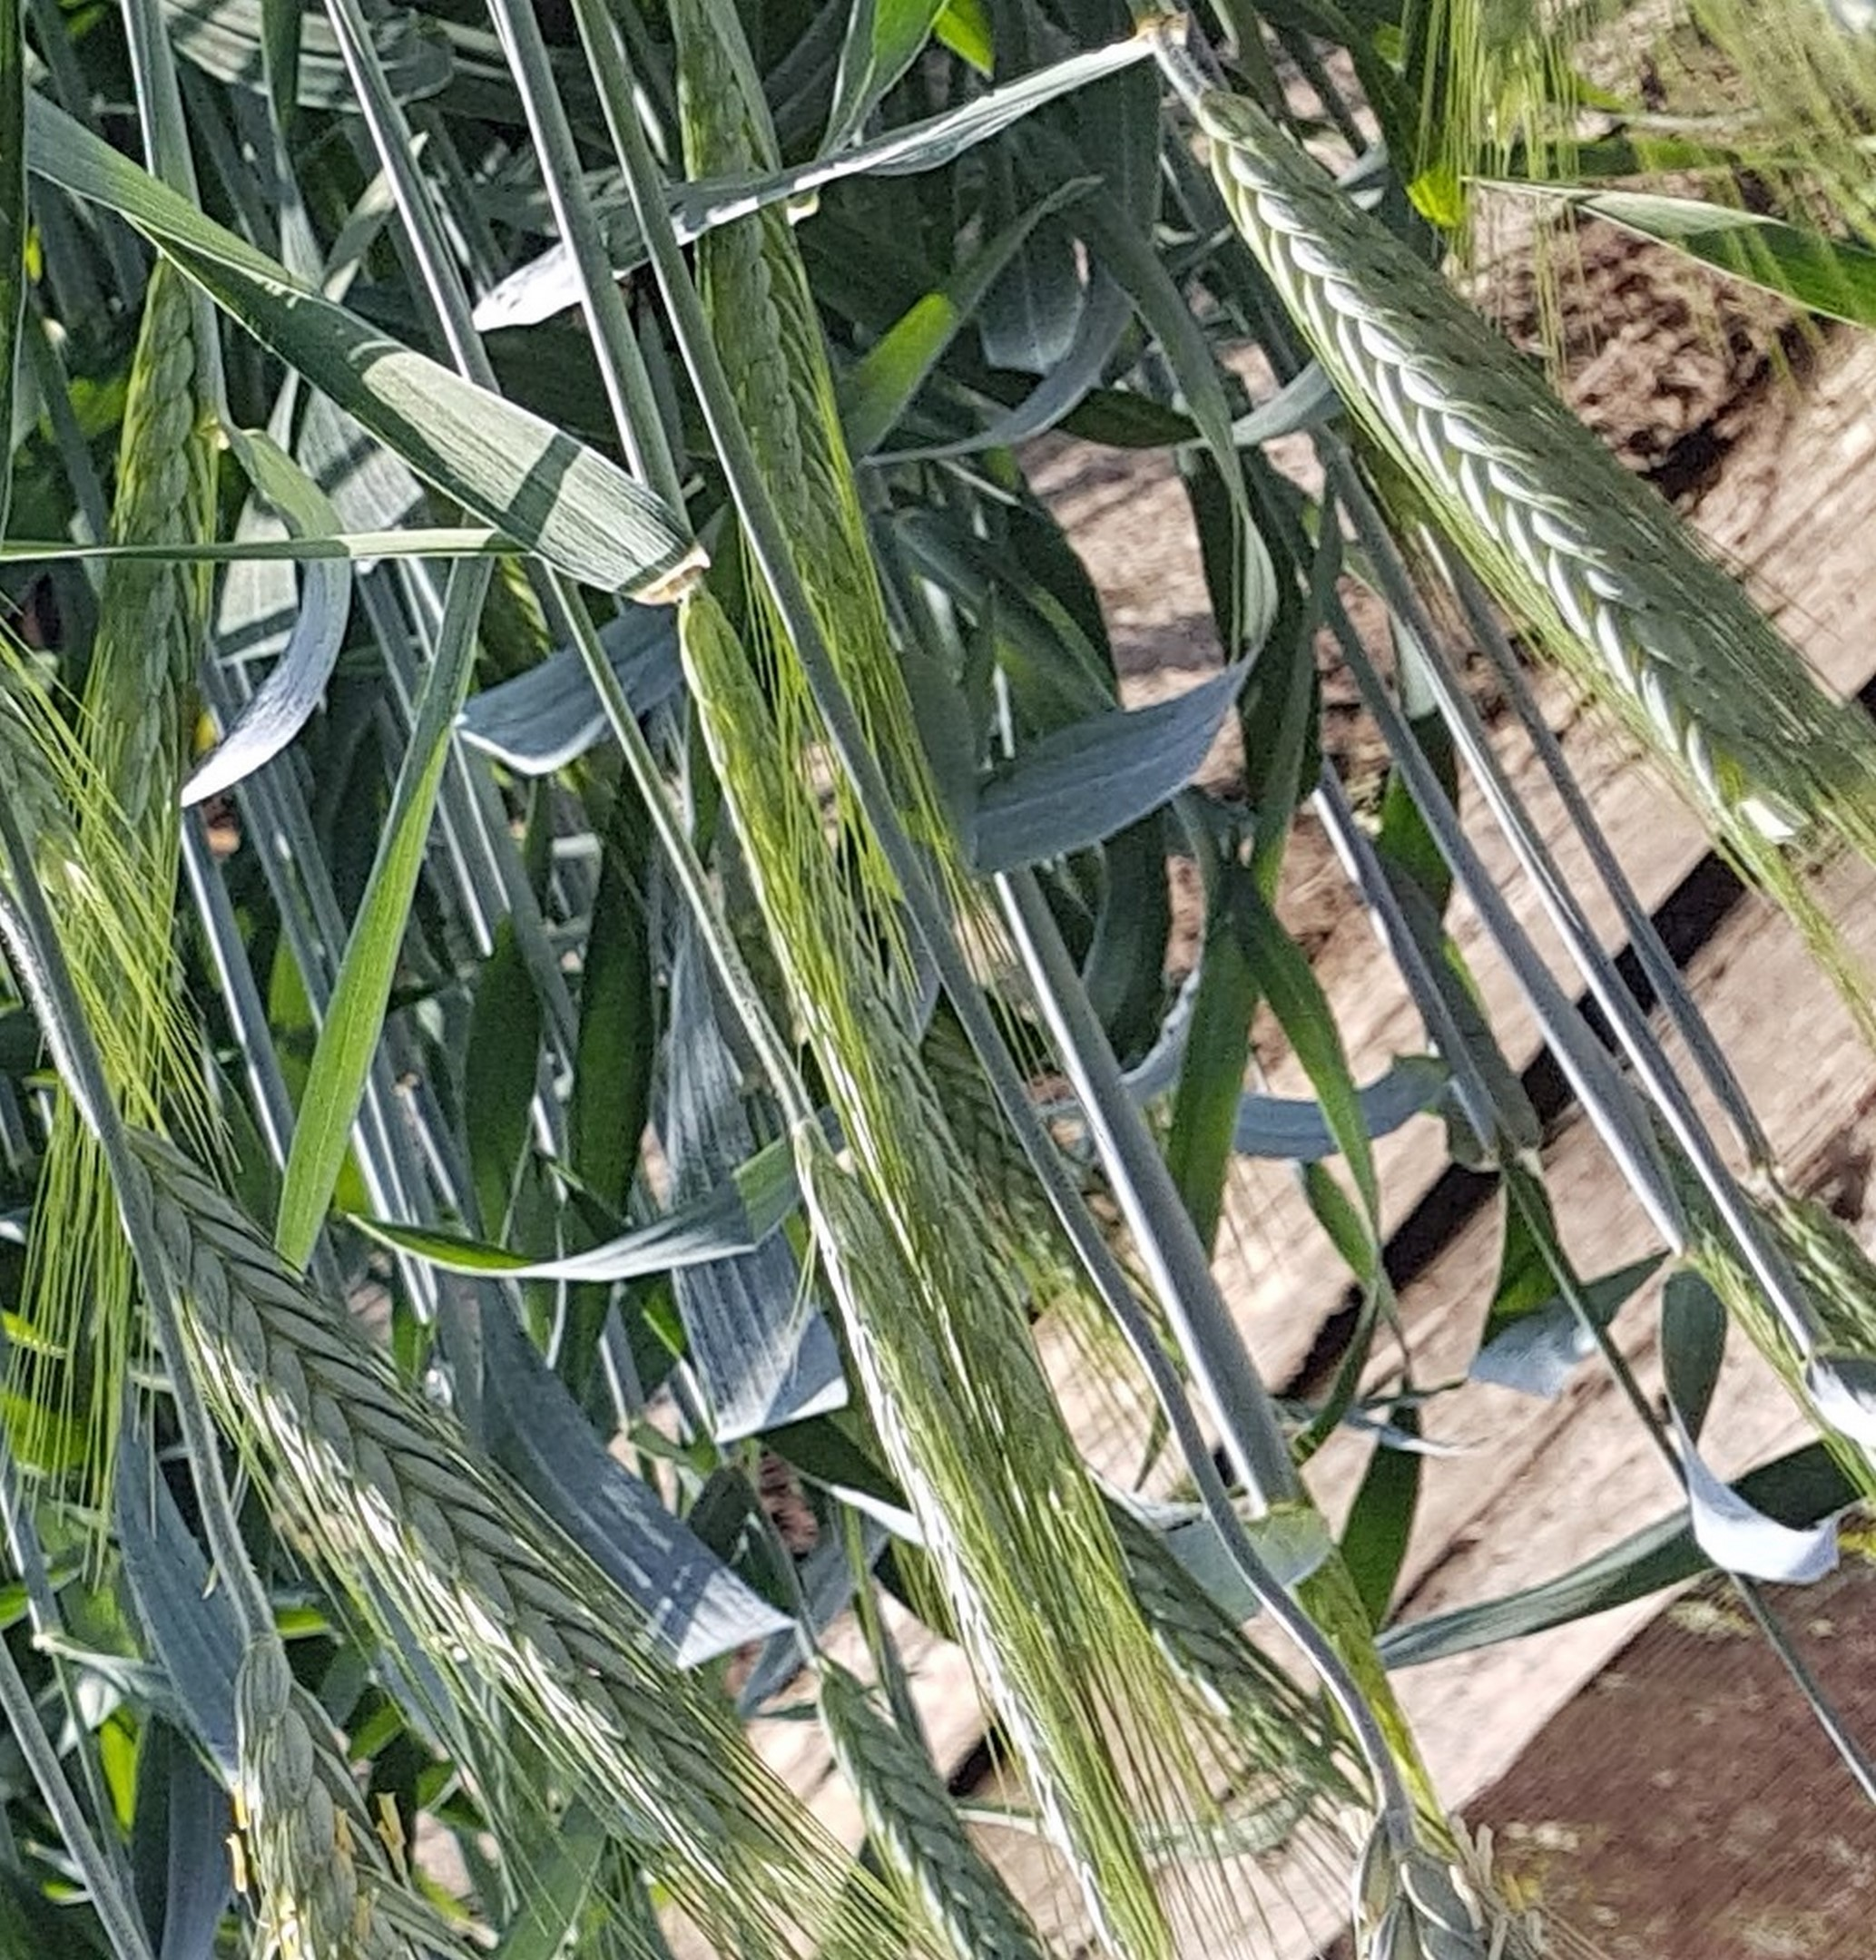Healthy Wheat: (1183, 94, 1876, 931), (140, 1111, 847, 1909)
